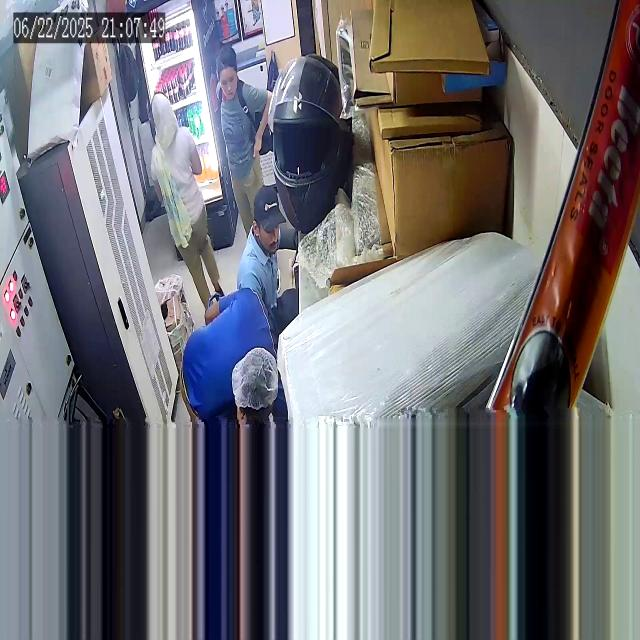helmet: (266, 58, 352, 235)
